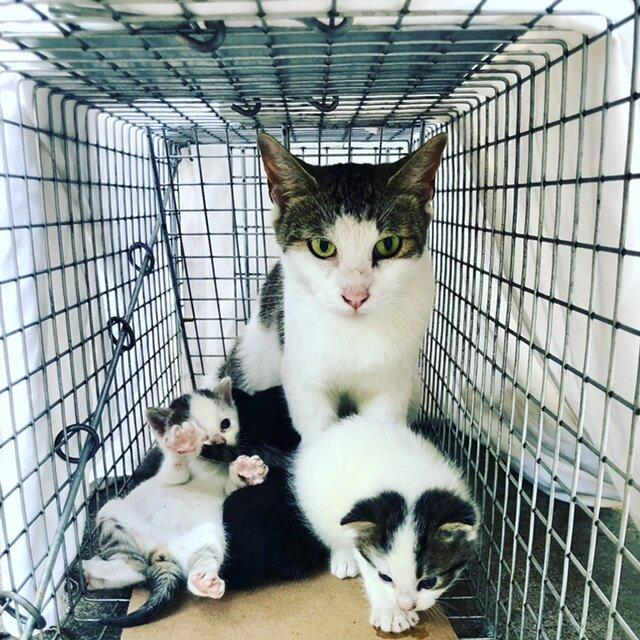animals: (243, 133, 450, 331), (332, 480, 495, 613), (140, 382, 264, 503)
